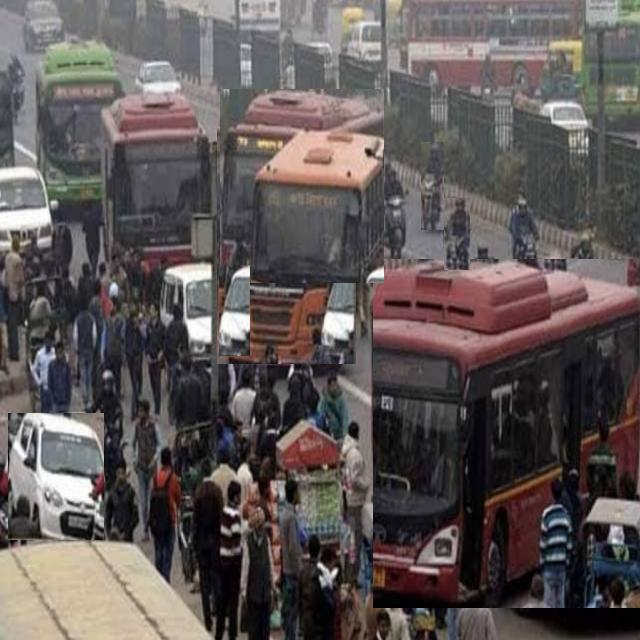bus: (373, 259, 640, 608), (217, 128, 355, 364), (220, 89, 384, 283), (102, 93, 210, 260), (36, 43, 122, 228)
car: (8, 414, 104, 540), (160, 262, 211, 362), (0, 166, 51, 252), (219, 266, 250, 356)
motorcycle: (382, 164, 406, 259), (421, 142, 444, 230), (509, 195, 538, 263), (444, 199, 470, 270)
